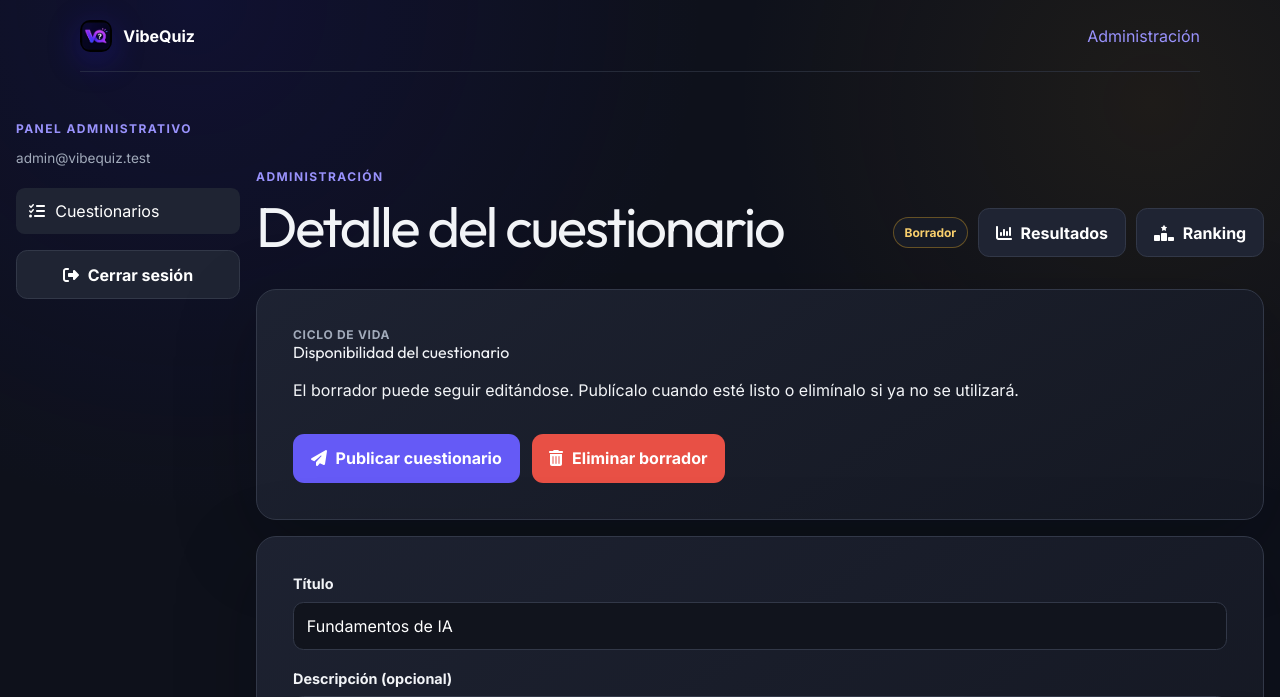
Test: administrative quiz detail and editing › replaces the complete draft and shows confirmation
Replace the text in the field labelled "Título" with "Fundamentos actualizados" at (760,626), box [293,602,1227,650]
(page scrolled)
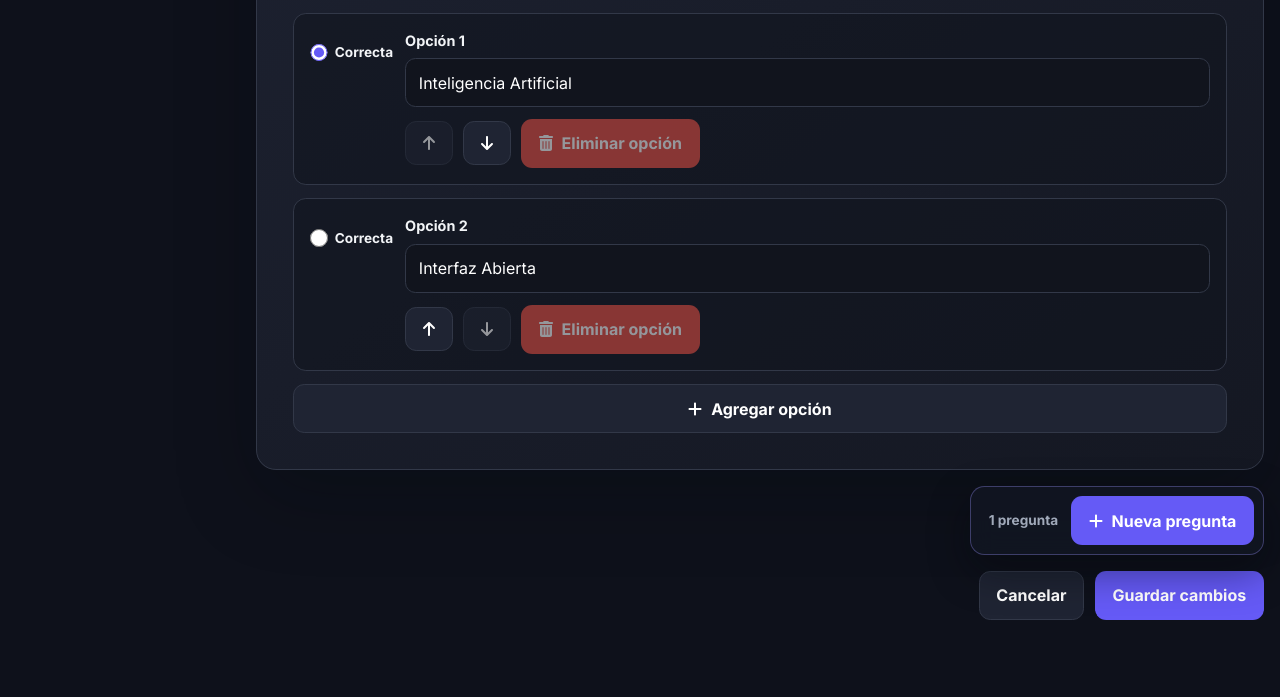
Click the button "Guardar cambios".
click(1179, 595)  # box [1095,571,1264,620]
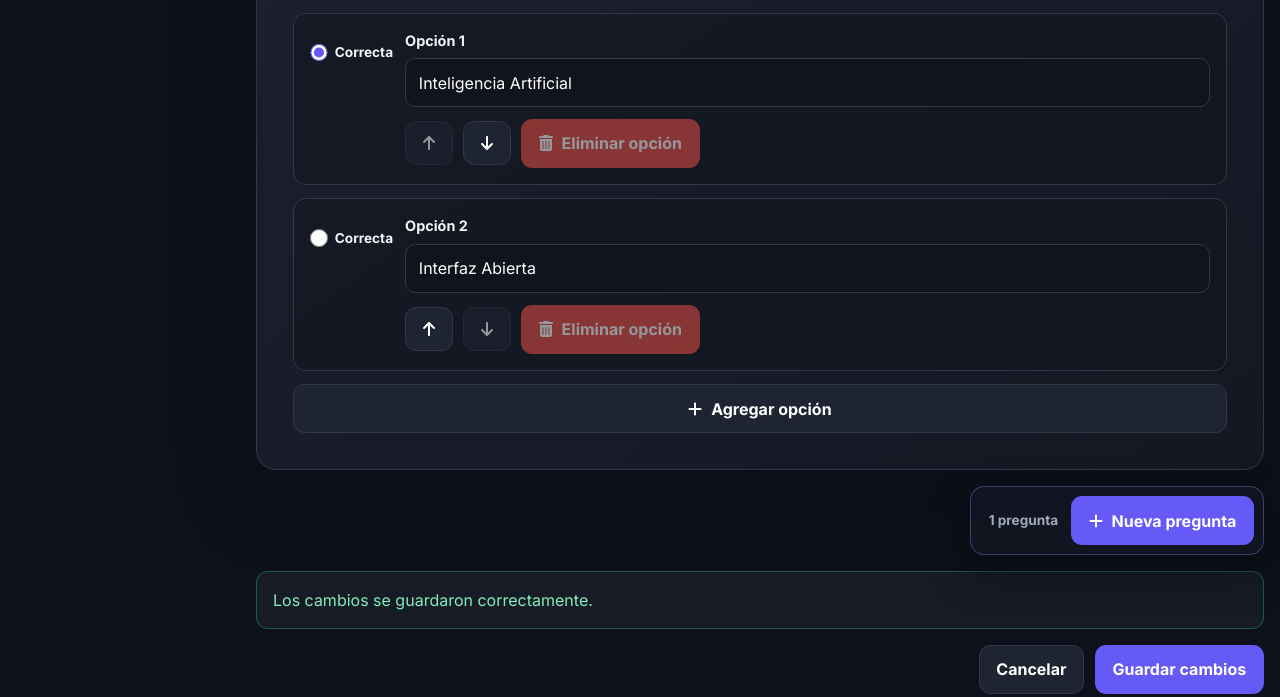
Now the text "Los cambios se guardaron correctamente." is shown, box [256,571,1264,629]
